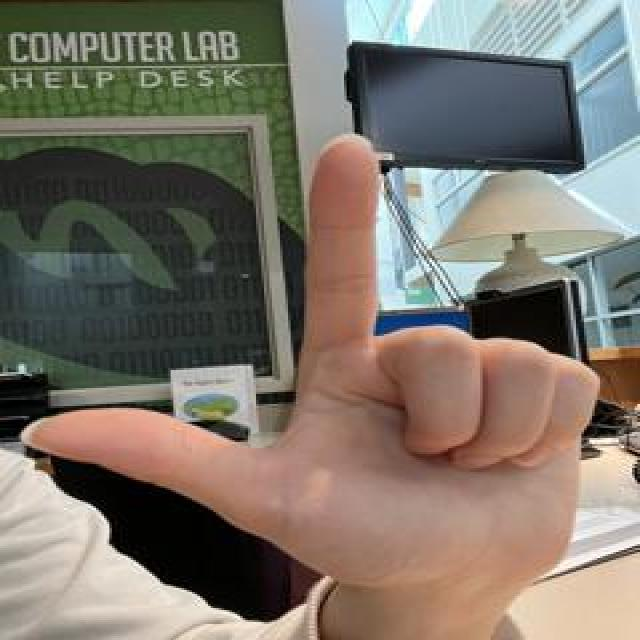L: (16, 90, 640, 640)
